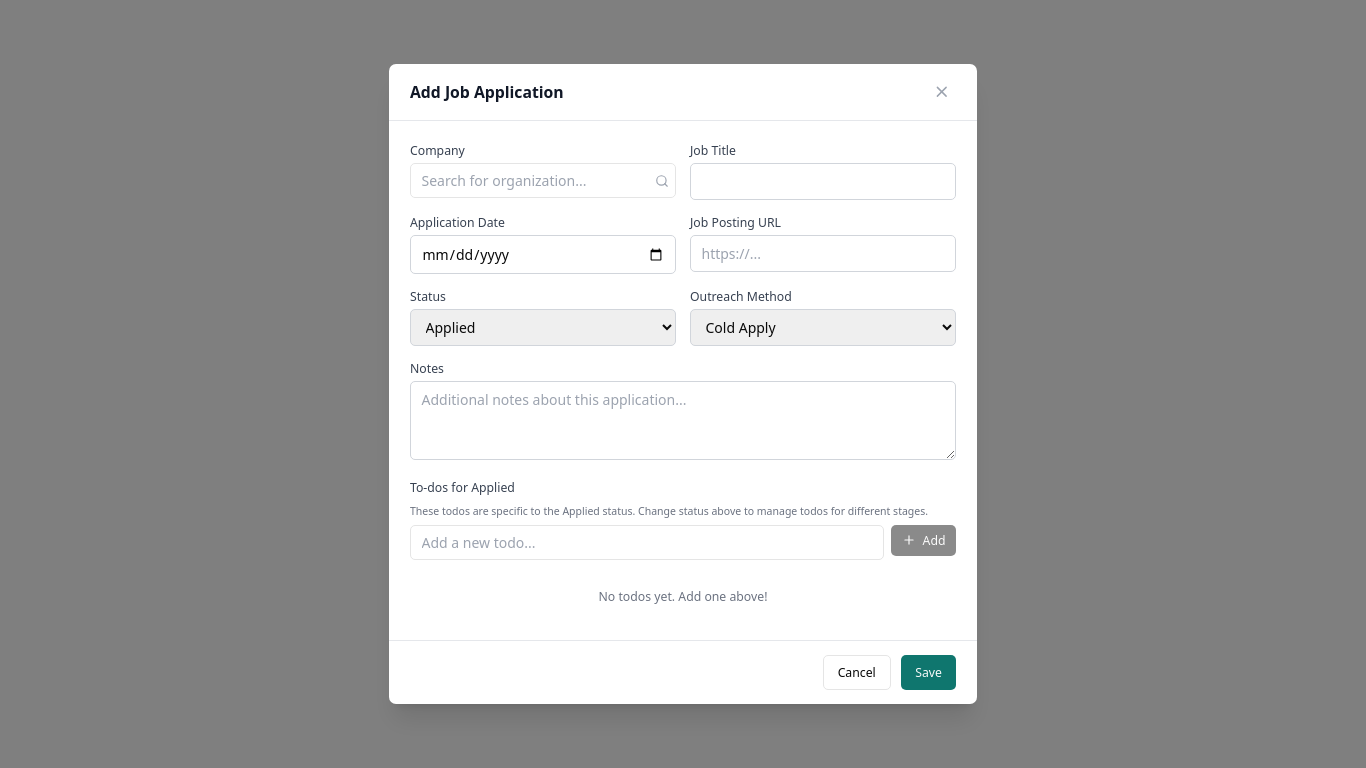
Test case: ApplicationModal - OrganizationSelector Integration › should open create form when clicking create option
// Type and wait for create option
Type "NonExistentCorpXYZ" into the field with placeholder "Search for organization..." at x=543, y=180, box top-left (410, 163), bottom-right (676, 198)
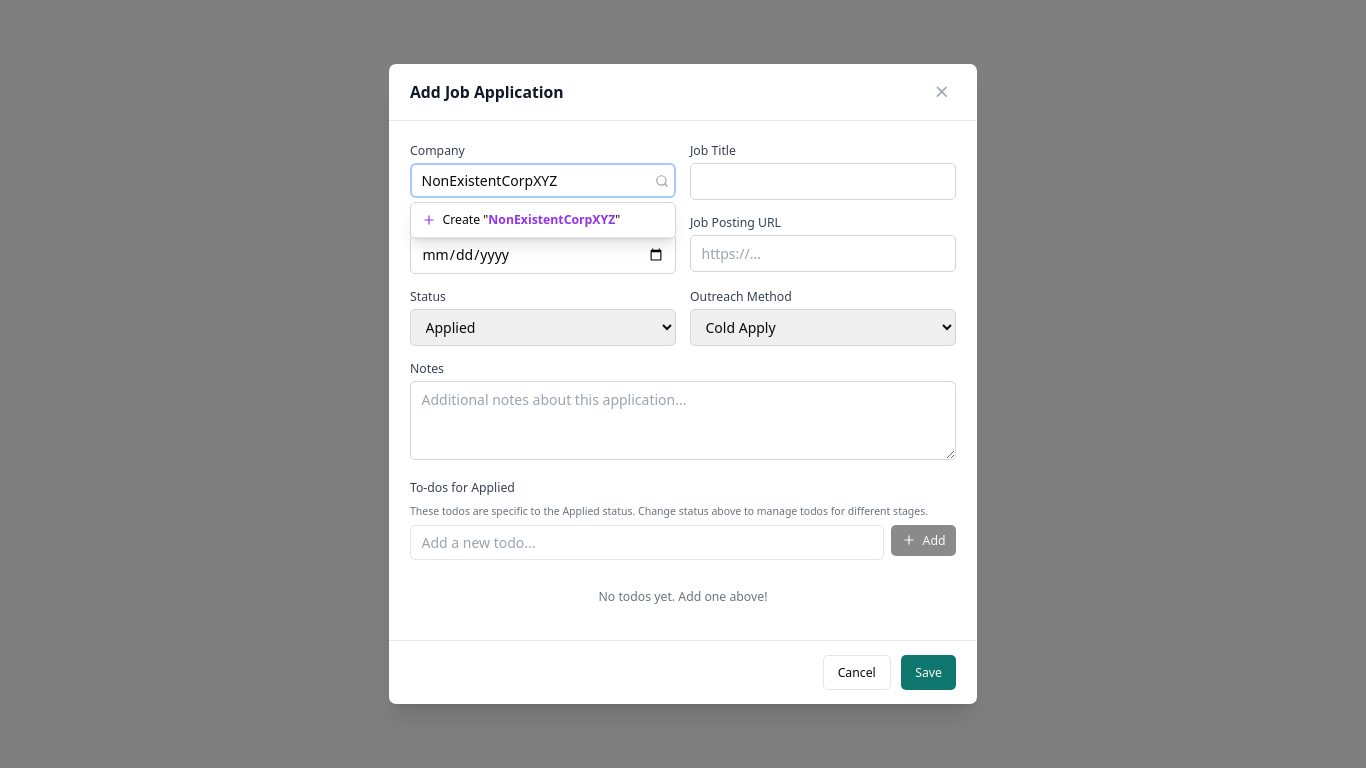
Click the button "Create \"NonExistentCorpXYZ\"" at x=543, y=220, box top-left (411, 202), bottom-right (675, 238)
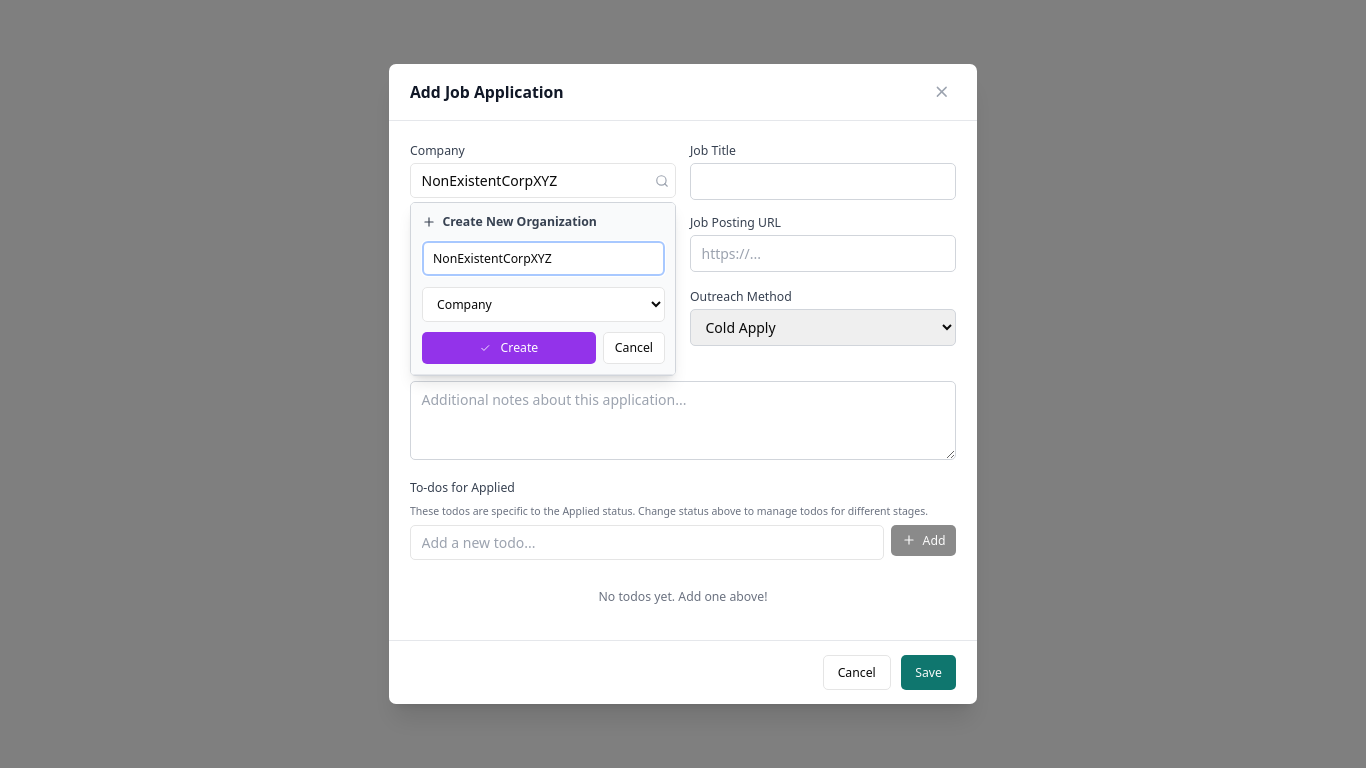
Result: the text "Create New Organization" is shown at top-left (422, 213), bottom-right (597, 230)
Result: the field with placeholder "Organization name" below "Create New Organization" holds "NonExistentCorpXYZ" at top-left (422, 241), bottom-right (664, 276)
